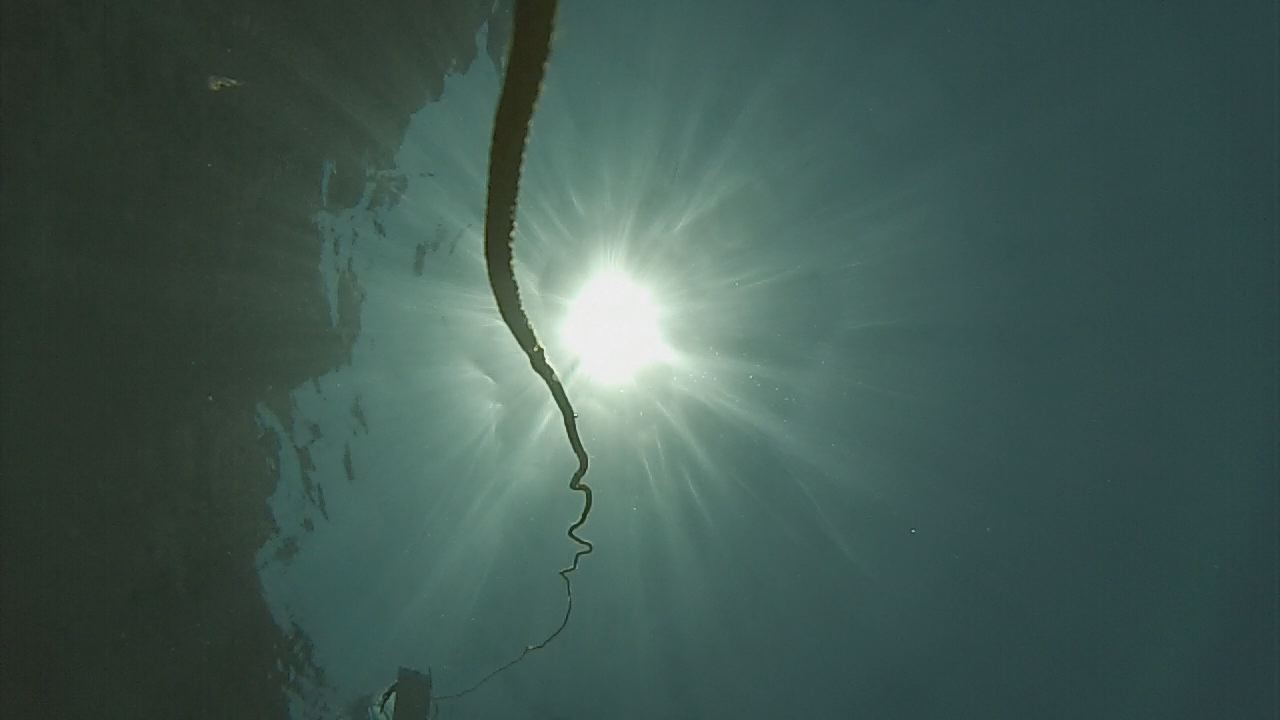pelagia: (203, 66, 253, 98)
